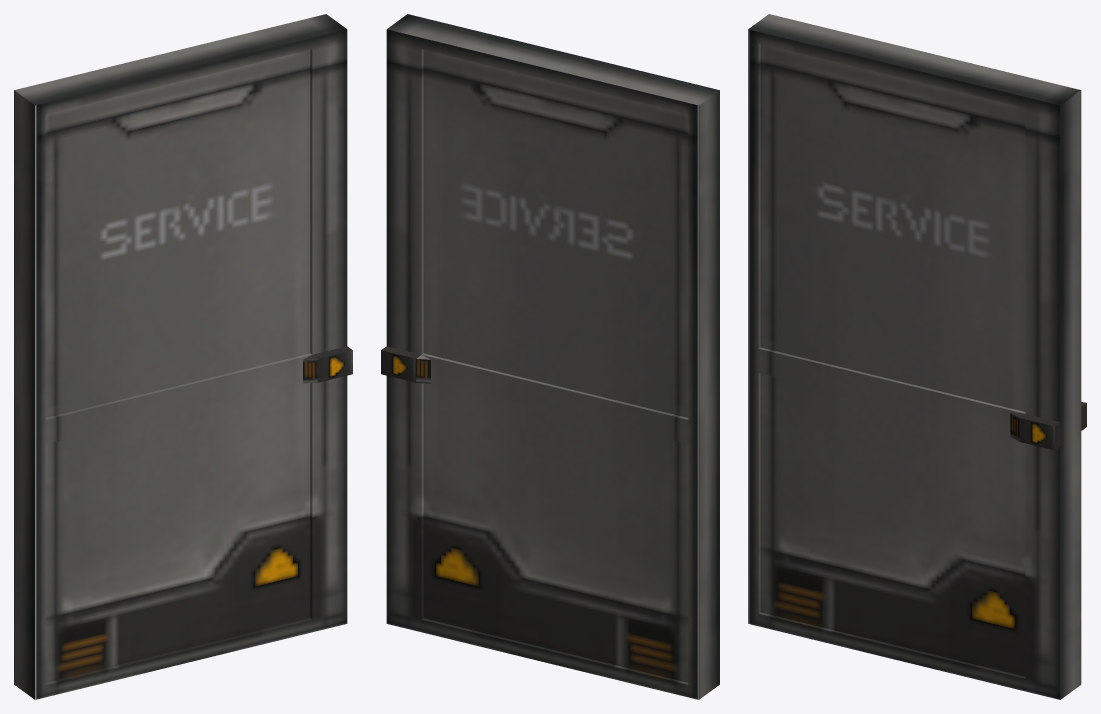
The model's file is SM_BLD_DOOR_01.fbx.
3 renders of one model, left to right at view 1: azimuth 30°, elevation 25°; view 2: azimuth 150°, elevation 25°; view 3: azimuth 330°, elevation 25°, orthographic.
Parts seen in each view (by area): view 1: SM_BLD_DOOR_01; view 2: SM_BLD_DOOR_01; view 3: SM_BLD_DOOR_01.
Part boxes in pixels (bbox=[...]): SM_BLD_DOOR_01: bbox=[14, 14, 352, 699]; SM_BLD_DOOR_01: bbox=[381, 14, 719, 699]; SM_BLD_DOOR_01: bbox=[748, 14, 1086, 699].
Bounding box in the file's own units: 1.29 × 2.34 × 0.2284.
